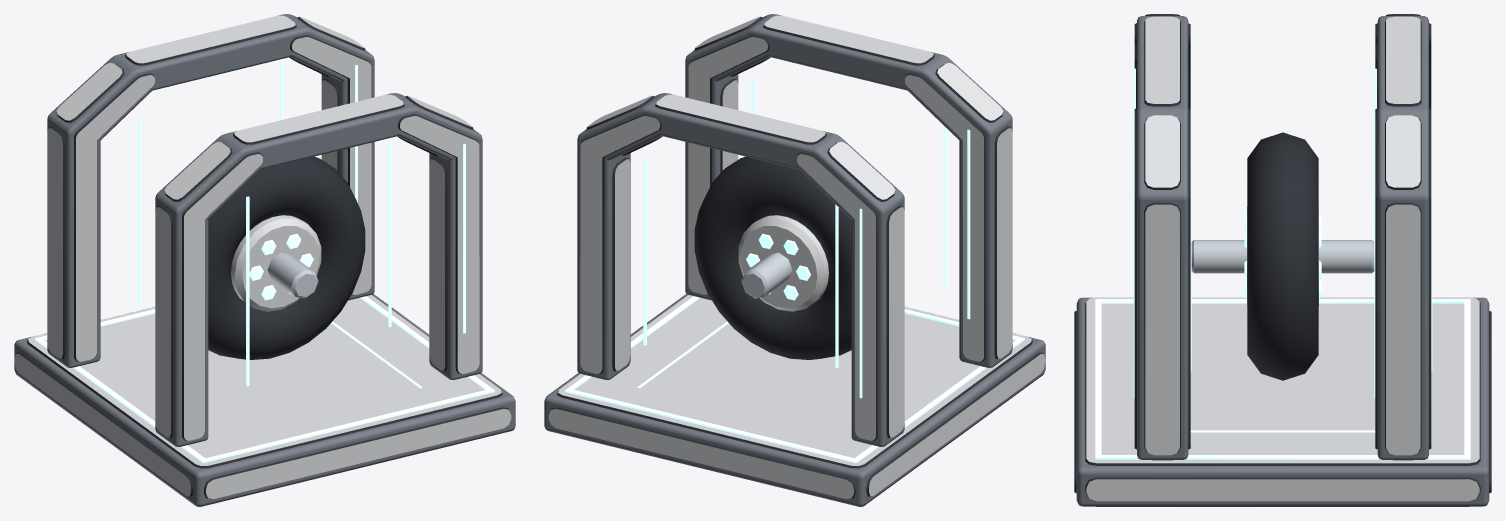
File: R4X_MovementDurabilityBooster.fbx
3 views of the same model, side by side, from view 1: azimuth 30°, elevation 25°; view 2: azimuth 150°, elevation 25°; view 3: azimuth 270°, elevation 25° (orthographic). The views are drawn at different scales.
Visible parts, largest first — view 1: R4X_MovementDurabilityBooster_Body, R4X_MovementDurabilityBooster_Wheel; view 2: R4X_MovementDurabilityBooster_Body, R4X_MovementDurabilityBooster_Wheel; view 3: R4X_MovementDurabilityBooster_Body, R4X_MovementDurabilityBooster_Wheel.
Part boxes in pixels (x1,y1,x2,y2): R4X_MovementDurabilityBooster_Body: (14, 14, 515, 506); R4X_MovementDurabilityBooster_Wheel: (208, 156, 365, 359); R4X_MovementDurabilityBooster_Body: (544, 14, 1045, 506); R4X_MovementDurabilityBooster_Wheel: (694, 156, 851, 359); R4X_MovementDurabilityBooster_Body: (1074, 14, 1491, 506); R4X_MovementDurabilityBooster_Wheel: (1244, 132, 1321, 380).
Bounding box in the file's own units: 0.52 × 0.5 × 0.52.
